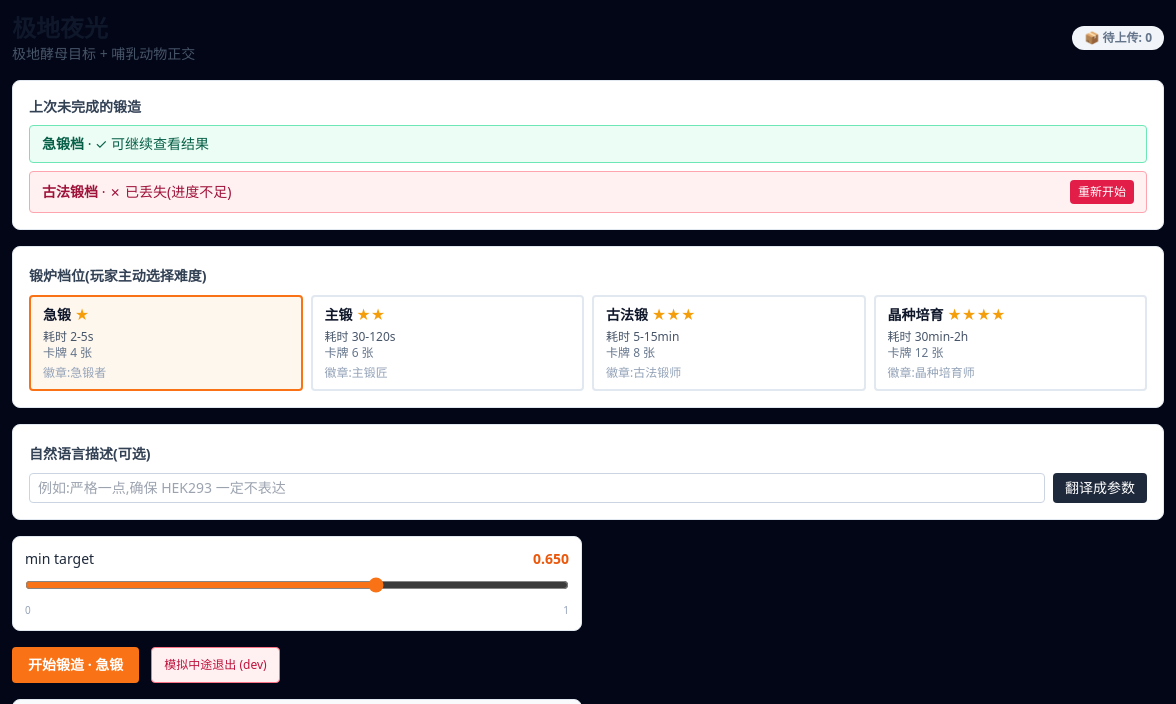
Test case: ForgePage · exit-penalty banner › shows red banner with fixed text when forging (loading=true)
Expected: the element with test id "ritual-selector" is shown, [12,246,1164,408]
Click the button with test id "forge-run". click: {"x": 76, "y": 665}
box: [12,647,139,683]
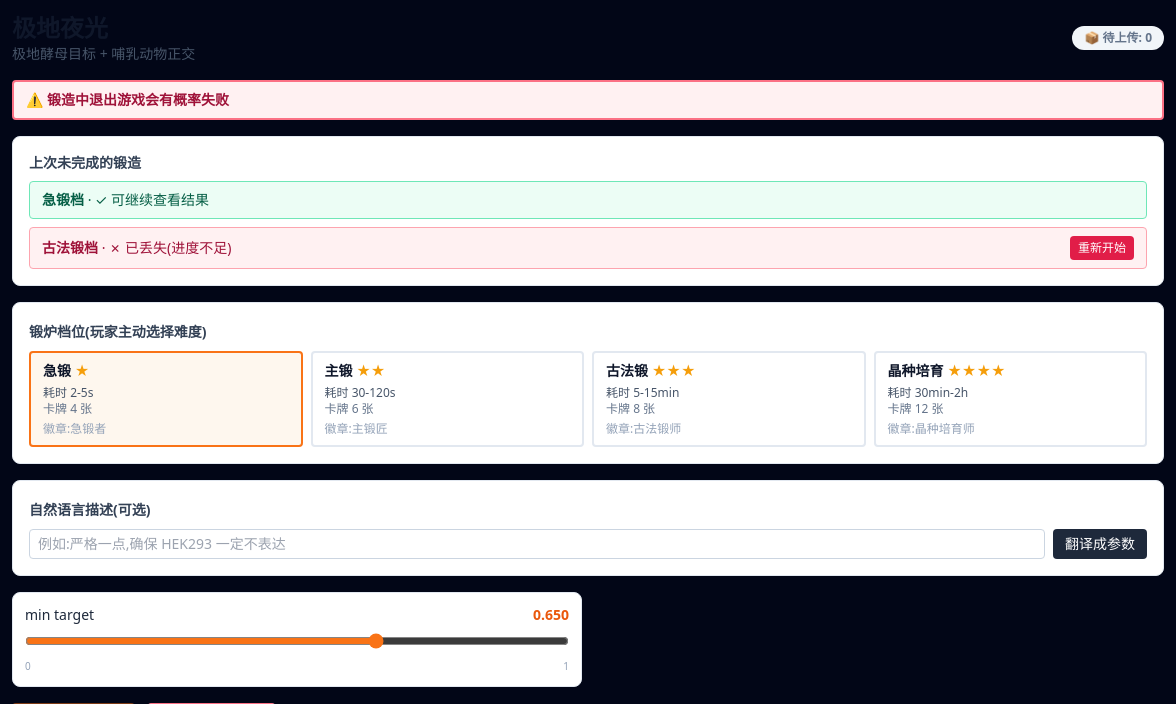
Now the message with test id "exit-penalty-banner" reads "⚠️ 锻造中退出游戏会有概率失败", box [26,90,229,109]
